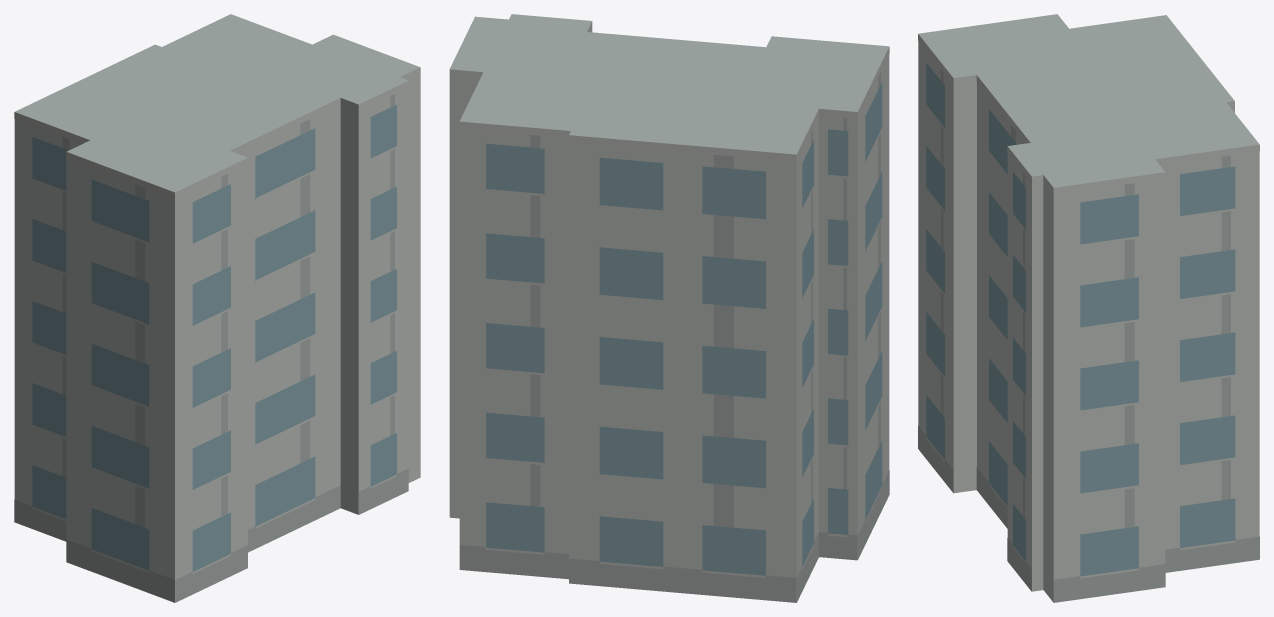
Rendered from survey-upis-32917854.glb.
The picture shows the model from 3 angles, left to right: view 1: azimuth 30°, elevation 25°; view 2: azimuth 150°, elevation 25°; view 3: azimuth 270°, elevation 25°; orthographic projection. The views are drawn at different scales.
Visible parts, largest first — view 1: survey-upis-32917854.tmp; view 2: survey-upis-32917854.tmp; view 3: survey-upis-32917854.tmp.
Boxes of the visible parts, <box> form: survey-upis-32917854.tmp: <box>14,14,420,602</box>; survey-upis-32917854.tmp: <box>449,14,889,602</box>; survey-upis-32917854.tmp: <box>918,14,1259,602</box>.
Bounding box in the file's own units: 13.48 × 15 × 11.2.
